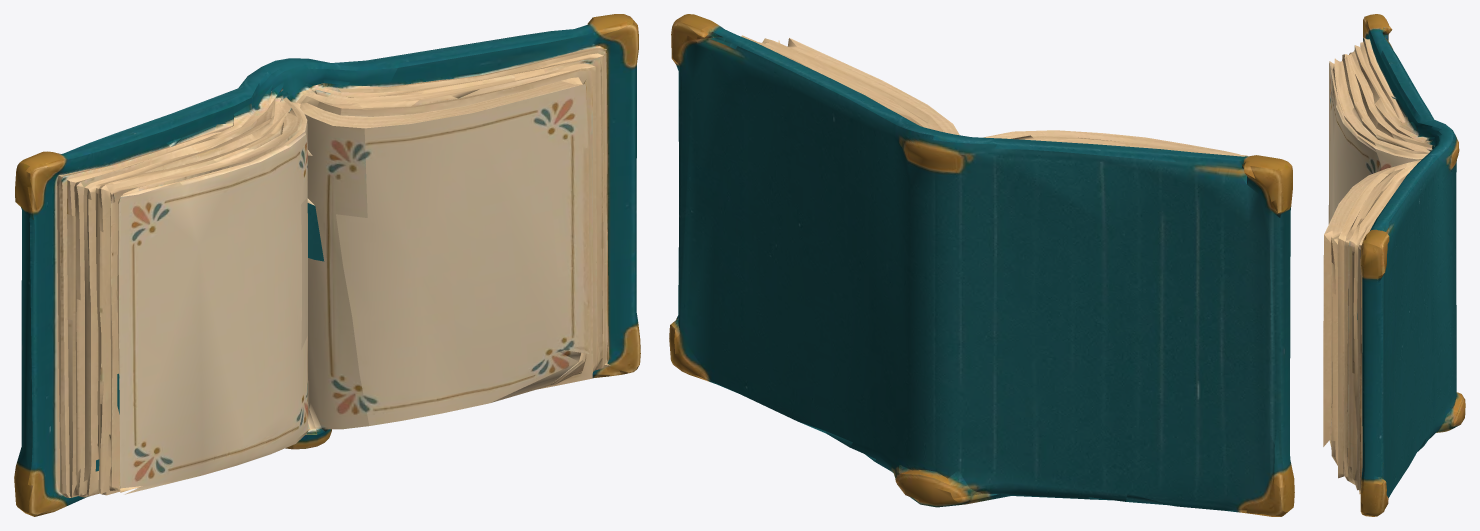
Rendered from dede-kitap.glb.
3 views of the same model, side by side, from view 1: azimuth 30°, elevation 25°; view 2: azimuth 150°, elevation 25°; view 3: azimuth 270°, elevation 25° (orthographic). The views are drawn at different scales.
Parts seen in each view (by area): view 1: Mesh0; view 2: Mesh0; view 3: Mesh0.
Part boxes in pixels (x1,y1,x2,y2): Mesh0: [14, 14, 640, 516]; Mesh0: [669, 14, 1294, 516]; Mesh0: [1323, 14, 1465, 516].
Size of the model in its own units: 1.9 by 1.11 by 0.4851.
Materials: 1 (1 with a texture image).
